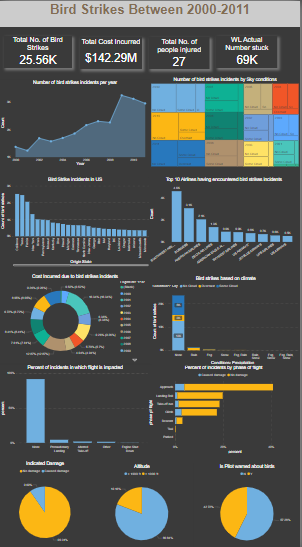

This screenshot's page, from the dashboard's own definition file:
{"tool":"powerbi","page":{"name":"Page 1","canvas":[1200,2200],"ordinal":0},"visuals":[{"type":"areaChart","title":"Number of bird strikes incidents per year","fields":{"Category":["Bird Strikes.FlightDate.Variation.Date Hierarchy.Year"],"Y":["CountNonNull(Bird Strikes.bird strikes)"]},"box":[0,314.9,600,351.4],"z":0},{"type":"clusteredColumnChart","title":"Top 10 Airlines having encountered bird strikes incidents","fields":{"Category":["Bird Strikes.Aircraft: Airline/Operator"],"Y":["CountNonNull(Bird Strikes.bird strikes)"]},"box":[595.9,704.1,600,360.8],"z":1000},{"type":"treemap","title":"Number of bird strikes incidents by Sky conditions","fields":{"Group":["Bird Strikes.FlightDate.Variation.Date Hierarchy.Year"],"Values":["CountNonNull(Bird Strikes.bird strikes)"],"Details":["Bird Strikes.Conditions: Sky"]},"box":[600,304.1,600,362.2],"z":2000},{"type":"donutChart","title":"Cost Incurred due to bird strikes incidents","fields":{"Category":["Bird Strikes.FlightDate.Variation.Date Hierarchy.Year"],"Y":["Divide(Sum(Bird Strikes.Cost: Total $), ScopedEval(Sum(Bird Strikes.Cost: Total $), []))"]},"box":[0,1090,600,358.9],"z":3000},{"type":"lineClusteredColumnComboChart","title":"Percent of incidents in which flight is impacted","fields":{"Category":["Bird Strikes.Effect: Impact to flight"],"Y":["Divide(CountNonNull(Bird Strikes.bird strikes), ScopedEval(CountNonNull(Bird Strikes.bird strikes), []))"]},"box":[0,1456.8,600,359.5],"z":4000},{"type":"barChart","title":"Percent of incidents by phase of flight","fields":{"Category":["Bird Strikes.When: Phase of flight"],"Y":["CountNonNull(Bird Strikes.Record ID)"],"Series":["Bird Strikes.Effect: Indicated Damage"]},"box":[591.9,1456.8,608.1,359.5],"z":5000},{"type":"pieChart","title":"Indicated Damage","fields":{"Category":["Bird Strikes.Effect: Indicated Damage"],"Y":["CountNonNull(Bird Strikes.Record ID)"]},"box":[0,1839.2,359.5,360.8],"z":6000},{"type":"pieChart","title":"Altitude","fields":{"Category":["Bird Strikes.Altitude bin"],"Y":["CountNonNull(Bird Strikes.Record ID)"]},"box":[359.5,1848.6,414.9,351.4],"z":7000},{"type":"pieChart","title":"Is Pilot warned about birds","fields":{"Category":["Bird Strikes.Pilot warned of birds or wildlife?"],"Y":["CountNonNull(Bird Strikes.Record ID)"]},"box":[774.3,1848.6,425.7,351.4],"z":8000},{"type":"textbox","box":[0,0,1200,104.1],"z":9000},{"type":"columnChart","title":"Bird Strike incidents in US","fields":{"Category":["Bird Strikes.Origin State"],"Y":["CountNonNull(Bird Strikes.bird strikes)"]},"box":[0,704.1,600,360.8],"z":10000},{"type":"card","title":"Total No. of Bird Strikes","fields":{"Values":["CountNonNull(Bird Strikes.bird strikes)"]},"box":[14,142,272,127],"z":11000},{"type":"card","title":"Total Cost Incurred","fields":{"Values":["Sum(Bird Strikes.Cost: Total $)"]},"box":[320,143,247,127],"z":12000},{"type":"card","title":"Total No. of people injured","fields":{"Values":["Sum(Bird Strikes.Number of people injured)"]},"box":[596,143,243,127],"z":13000},{"type":"card","title":"WL Actual Number stuck","fields":{"Values":["Sum(Bird Strikes.Wildlife: Number Struck Actual)"]},"box":[865,142,244,127],"z":14000},{"type":"lineStackedColumnComboChart","title":"Bird strikes based on climate","fields":{"Y":["CountNonNull(Bird Strikes.bird strikes)"],"Category":["Bird Strikes.Conditions: Precipitation"],"Series":["Bird Strikes.Conditions: Sky"]},"box":[604.4,1097.8,595.6,358.9],"z":15000}]}

Visuals, with their boxes in screenshot pixels (x1, y1, x2, y2), scaled from the page's 1200x2200 canvas onto the 302x547 screenshot:
"Number of bird strikes incidents per year" areaChart: pyautogui.locateOnScreen(0, 78, 151, 166)
"Top 10 Airlines having encountered bird strikes incidents" clusteredColumnChart: pyautogui.locateOnScreen(150, 175, 301, 265)
"Number of bird strikes incidents by Sky conditions" treemap: pyautogui.locateOnScreen(151, 76, 301, 166)
"Cost Incurred due to bird strikes incidents" donutChart: pyautogui.locateOnScreen(0, 271, 151, 360)
"Percent of incidents in which flight is impacted" lineClusteredColumnComboChart: pyautogui.locateOnScreen(0, 362, 151, 452)
"Percent of incidents by phase of flight" barChart: pyautogui.locateOnScreen(149, 362, 301, 452)
"Indicated Damage" pieChart: pyautogui.locateOnScreen(0, 457, 90, 546)
"Altitude" pieChart: pyautogui.locateOnScreen(90, 460, 195, 546)
"Is Pilot warned about birds" pieChart: pyautogui.locateOnScreen(195, 460, 301, 546)
textbox: pyautogui.locateOnScreen(0, 0, 301, 26)
"Bird Strike incidents in US" columnChart: pyautogui.locateOnScreen(0, 175, 151, 265)
"Total No. of Bird Strikes" card: pyautogui.locateOnScreen(4, 35, 72, 67)
"Total Cost Incurred" card: pyautogui.locateOnScreen(81, 36, 143, 67)
"Total No. of people injured" card: pyautogui.locateOnScreen(150, 36, 211, 67)
"WL Actual Number stuck" card: pyautogui.locateOnScreen(218, 35, 279, 67)
"Bird strikes based on climate" lineStackedColumnComboChart: pyautogui.locateOnScreen(152, 273, 301, 362)
